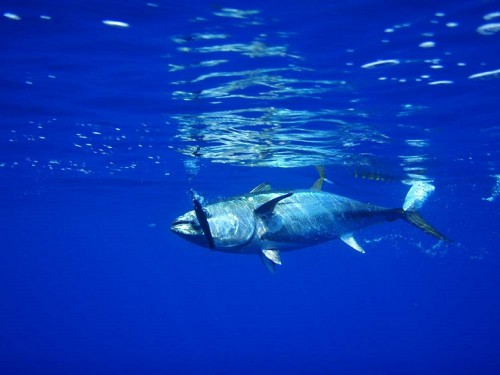Bluefina Tuna: (157, 170, 458, 275)
